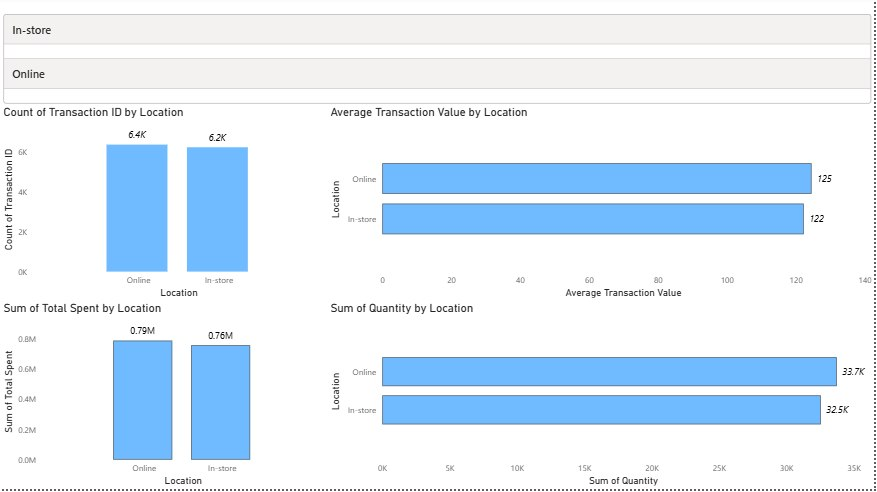

This screenshot's page, from the dashboard's own definition file:
{"tool":"powerbi","page":{"name":"Sales Channel Analysis","canvas":[1280,720],"ordinal":5},"visuals":[{"type":"cardVisual","fields":{"Rows":["Retail.Location"],"Data":["Sum(Retail.Total Spent)","Retail.Average Transaction Value"]},"box":[0,0,1280.5,121.5],"z":0},{"type":"clusteredColumnChart","fields":{"Category":["Retail.Location"],"Y":["Sum(Retail.Total Spent)"]},"box":[0,395.1,478.5,324.9],"z":1000},{"type":"clusteredColumnChart","fields":{"Category":["Retail.Location"],"Y":["CountNonNull(Retail.Transaction ID)"]},"box":[0,96.6,478.5,298.5],"z":2000},{"type":"clusteredBarChart","fields":{"Category":["Retail.Location"],"Y":["Retail.Average Transaction Value"]},"box":[478.5,96.6,802,298.5],"z":3000},{"type":"clusteredBarChart","fields":{"Category":["Retail.Location"],"Y":["Sum(Retail.Quantity)"]},"box":[478.5,395.1,802,324.9],"z":4000}]}

Visuals, with their boxes in screenshot pixels (x1, y1, x2, y2), scaled from the page's 1280x720 canvas onto the 877x492 screenshot:
cardVisual - Retail.Location x Sum(Retail.Total Spent): bbox=(0, 0, 876, 83)
clusteredColumnChart - Retail.Location x Sum(Retail.Total Spent): bbox=(0, 270, 328, 491)
clusteredColumnChart - Retail.Location x CountNonNull(Retail.Transaction ID): bbox=(0, 66, 328, 270)
clusteredBarChart - Retail.Location x Retail.Average Transaction Value: bbox=(328, 66, 876, 270)
clusteredBarChart - Retail.Location x Sum(Retail.Quantity): bbox=(328, 270, 876, 491)
